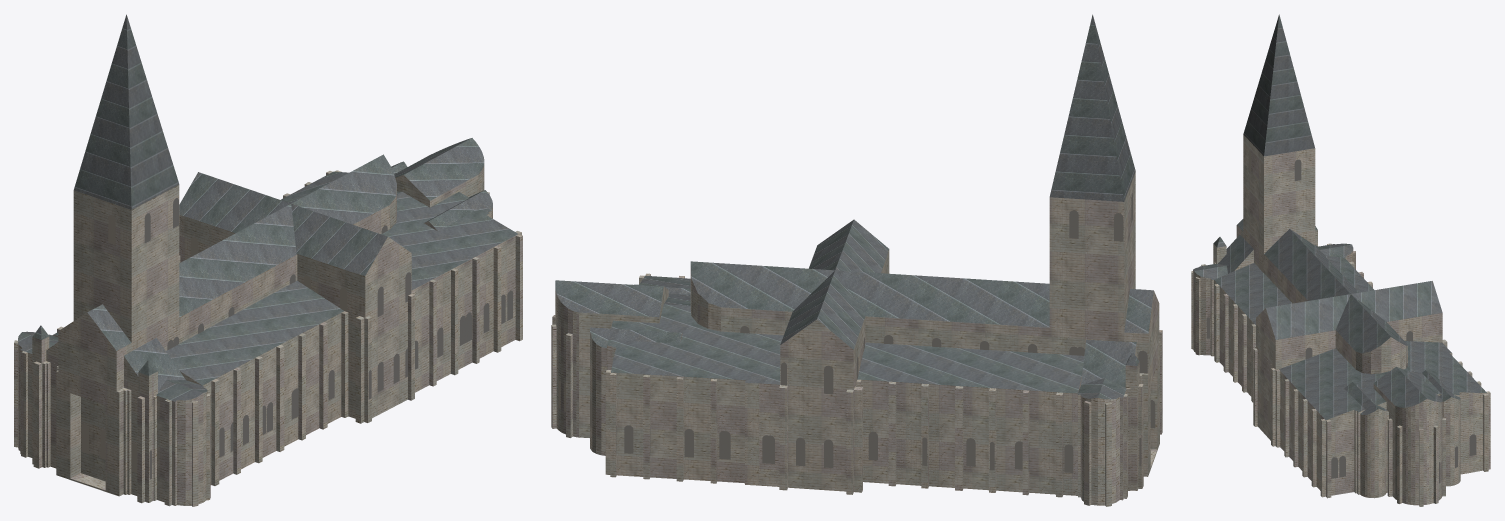
Rendered from notre-dame-de-la-croix.glb.
The picture shows the model from 3 angles, left to right: view 1: azimuth 30°, elevation 25°; view 2: azimuth 150°, elevation 25°; view 3: azimuth 270°, elevation 25°; orthographic projection. The views are drawn at different scales.
Visible parts, largest first — view 1: stone, roof, window; view 2: stone, roof, window; view 3: stone, roof, window.
Part boxes in pixels (x1,y1,x2,y2): stone: [14, 164, 522, 506]; roof: [18, 14, 517, 401]; window: [81, 198, 512, 482]; stone: [551, 172, 1162, 506]; roof: [555, 14, 1153, 399]; window: [558, 193, 1155, 482]; stone: [1191, 134, 1490, 506]; roof: [1193, 14, 1486, 419]; window: [1206, 150, 1476, 486].
Size of the model in its own units: 94.9 by 78 by 63.94.
3 materials, 3 textured.
